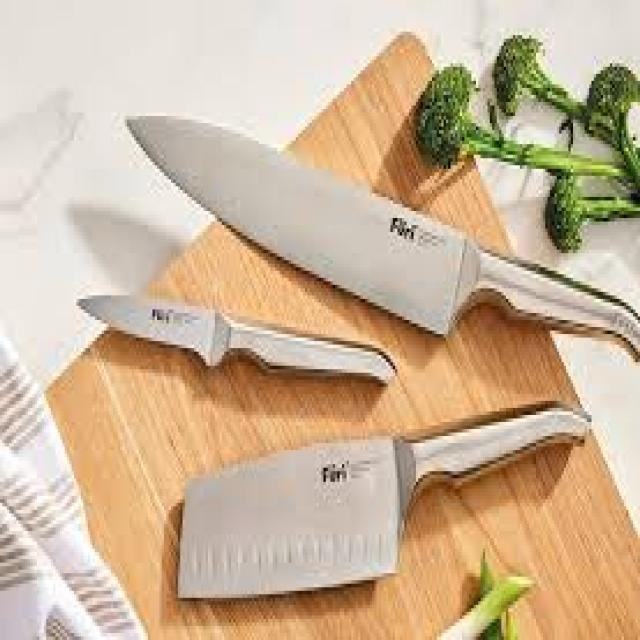knife: (127, 116, 638, 365), (77, 295, 397, 389)
